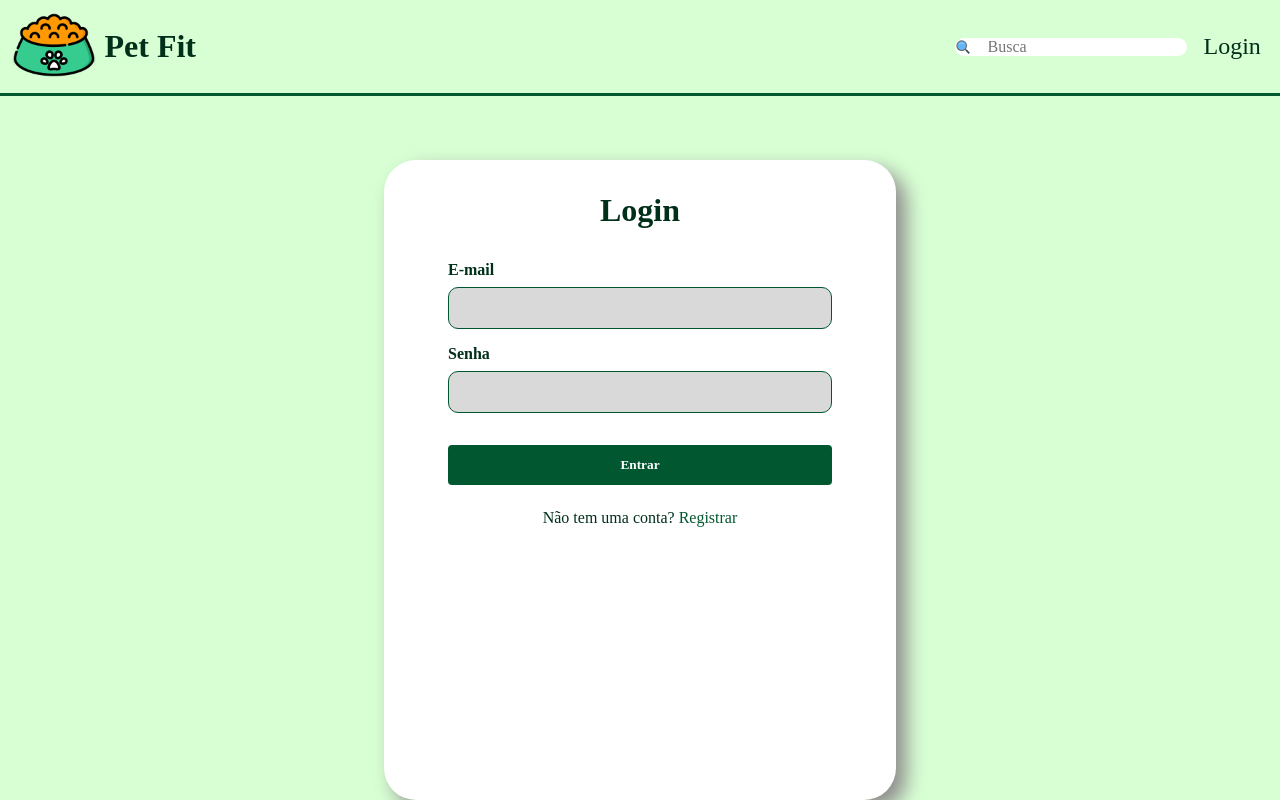
Test case: Login Component › deve exibir uma mensagem de erro se o login falhar
Type "wrong@example.com" into the field labelled "E-mail" at point(640, 308), box [448,287,832,329]
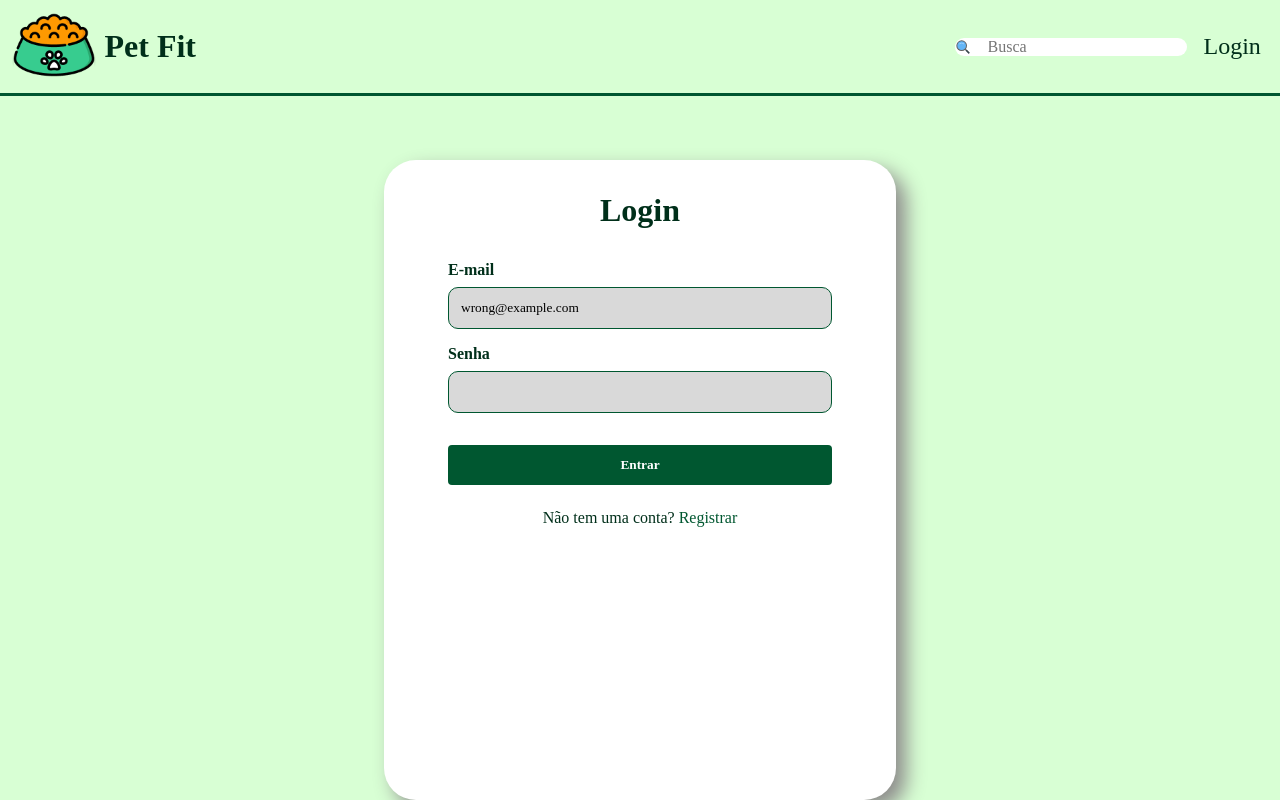
Type "wrongpassword" into the password field labelled "Senha" at point(640, 392), box [448,371,832,413]
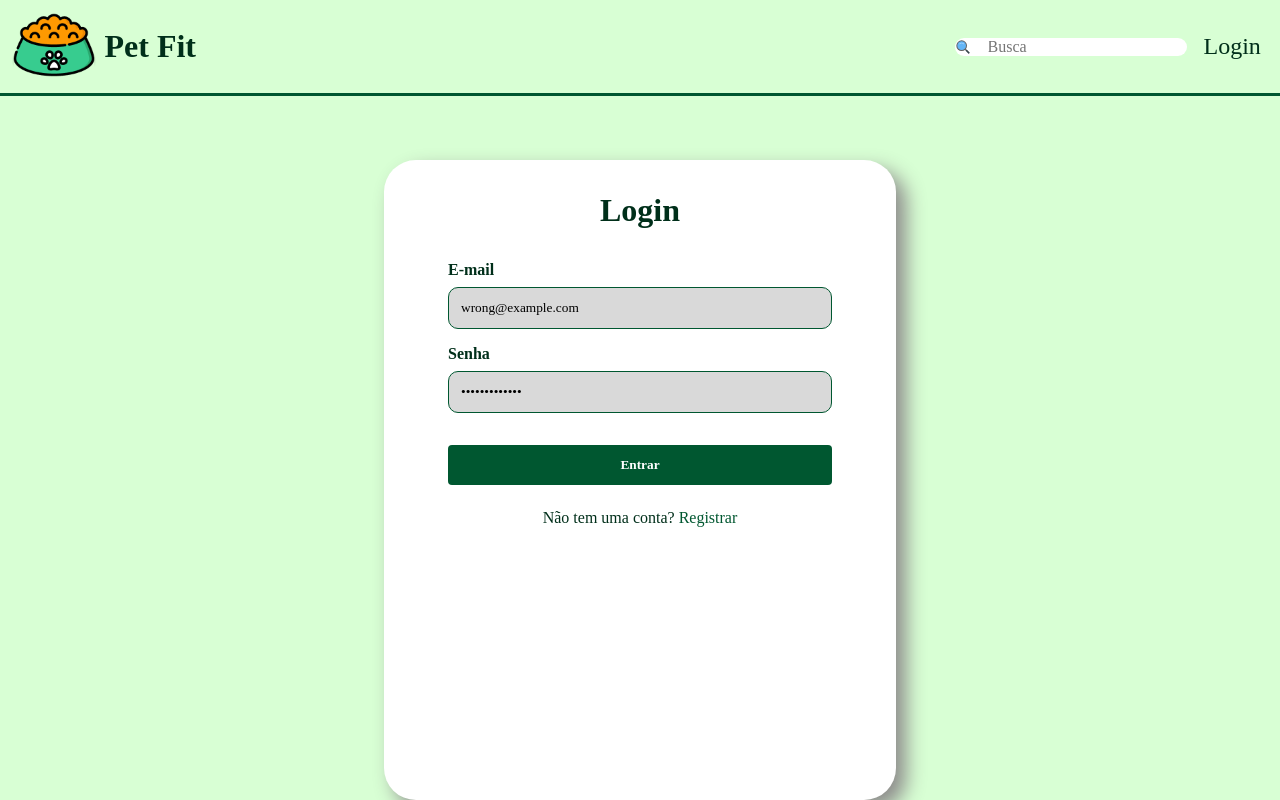
Click the button "Entrar" at point(640, 465), box [448,445,832,485]
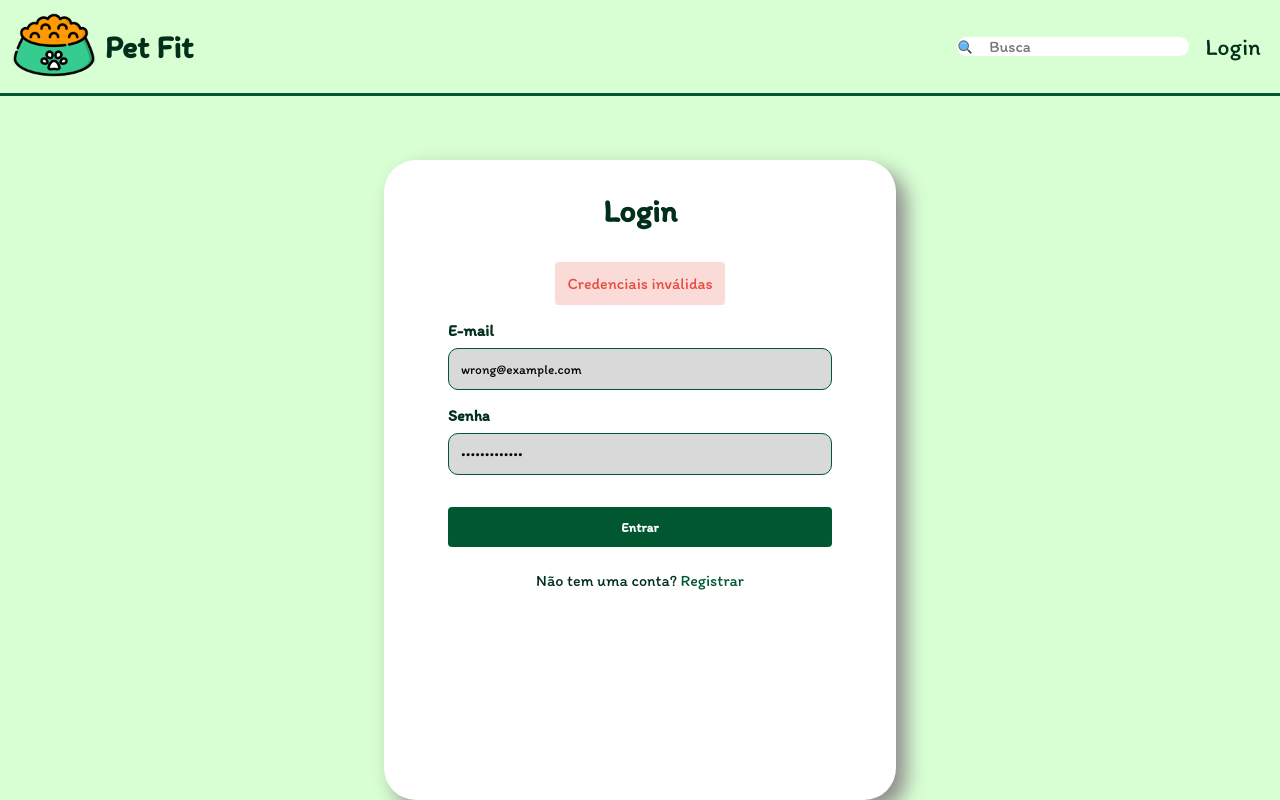
Expected: the button "Entrar" is enabled, [448,507,832,547]
Expected: the text "Credenciais inválidas" is shown, [555,262,725,305]
